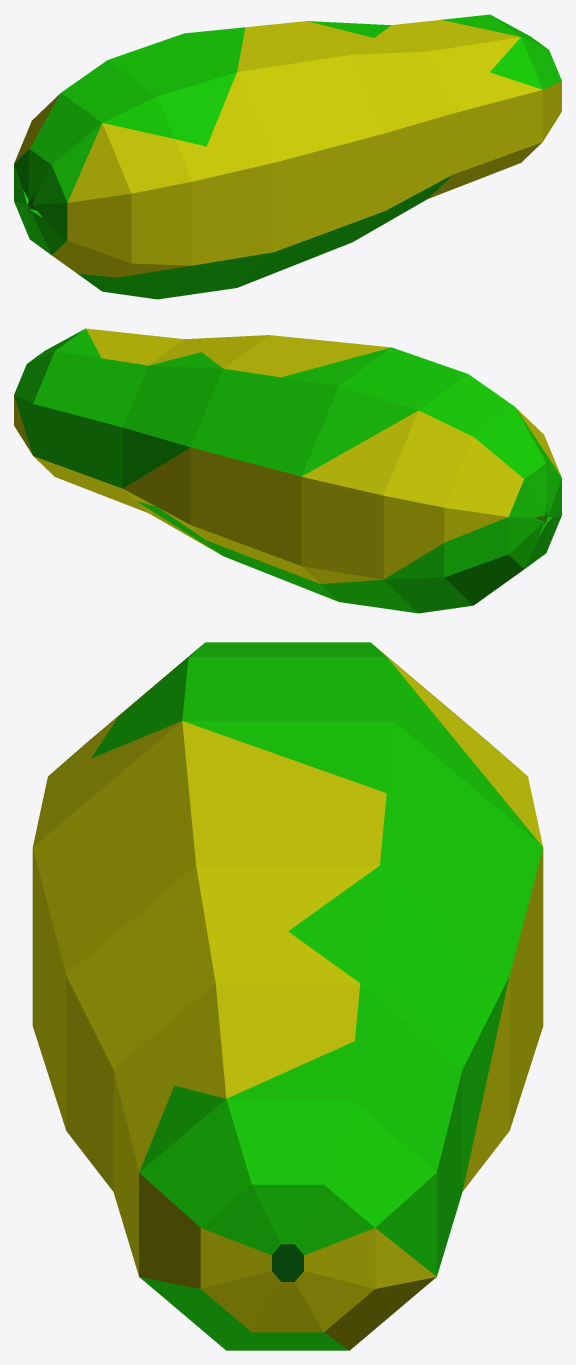
The model's file is papaya01.gltf.
The picture shows the model from 3 angles, top to bottom: view 1: azimuth 30°, elevation 25°; view 2: azimuth 150°, elevation 25°; view 3: azimuth 270°, elevation 25°; orthographic projection. The views are drawn at different scales.
Visible parts, largest first — view 1: Cylinder.001; view 2: Cylinder.001; view 3: Cylinder.001.
Part boxes in pixels (<box>): Cylinder.001: <box>14,14,561,299</box>; Cylinder.001: <box>14,328,561,613</box>; Cylinder.001: <box>32,642,543,1350</box>.
Size of the model in its own units: 0.2347 by 0.094 by 0.1007.
Materials: 1 (1 with a texture image).
